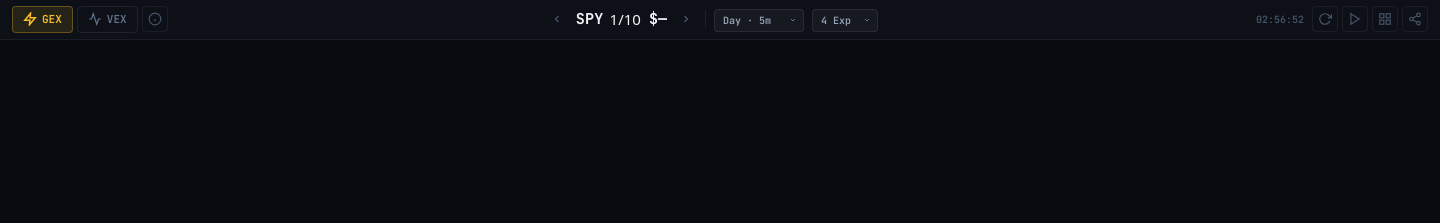
Scenario: info button toggles the grid explainer popover
What coordinates should you click on to do the following:
click the button with test id "skylit-info-btn"
I would click on:
 (155, 19)
Its box is [142,6,168,32].
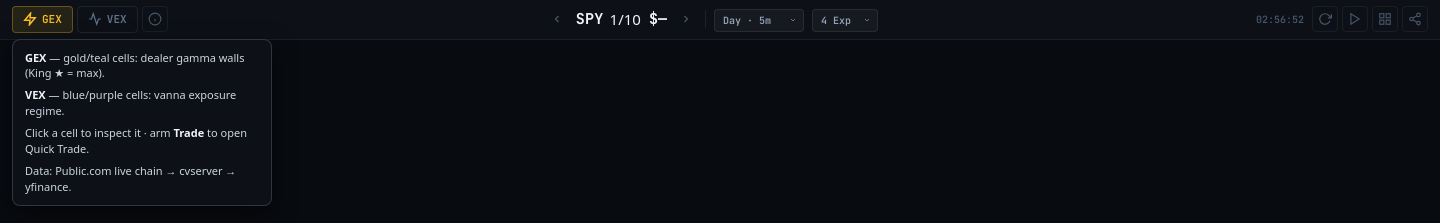
Expected: the element with test id "skylit-info-popover" shows "GEX", [25,50,46,64]
Expected: the element with test id "skylit-info-popover" shows "Trade", [174,125,204,140]
What coordinates should you click on to do the following:
click the button with test id "skylit-info-btn"
I would click on:
 (155, 19)
Its box is [142,6,168,32].
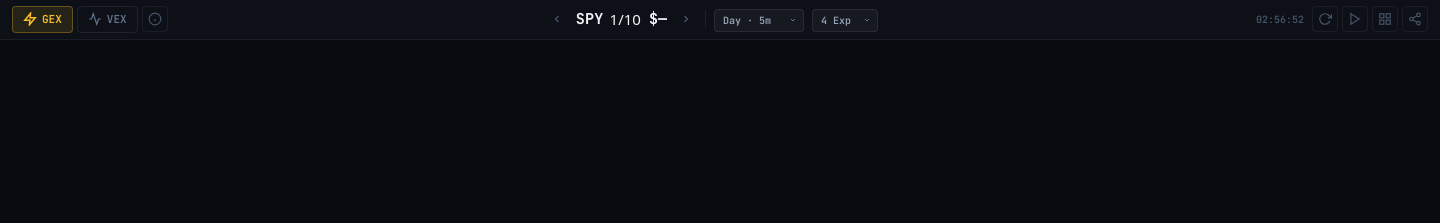
Expected: the element with test id "skylit-info-popover" is gone
